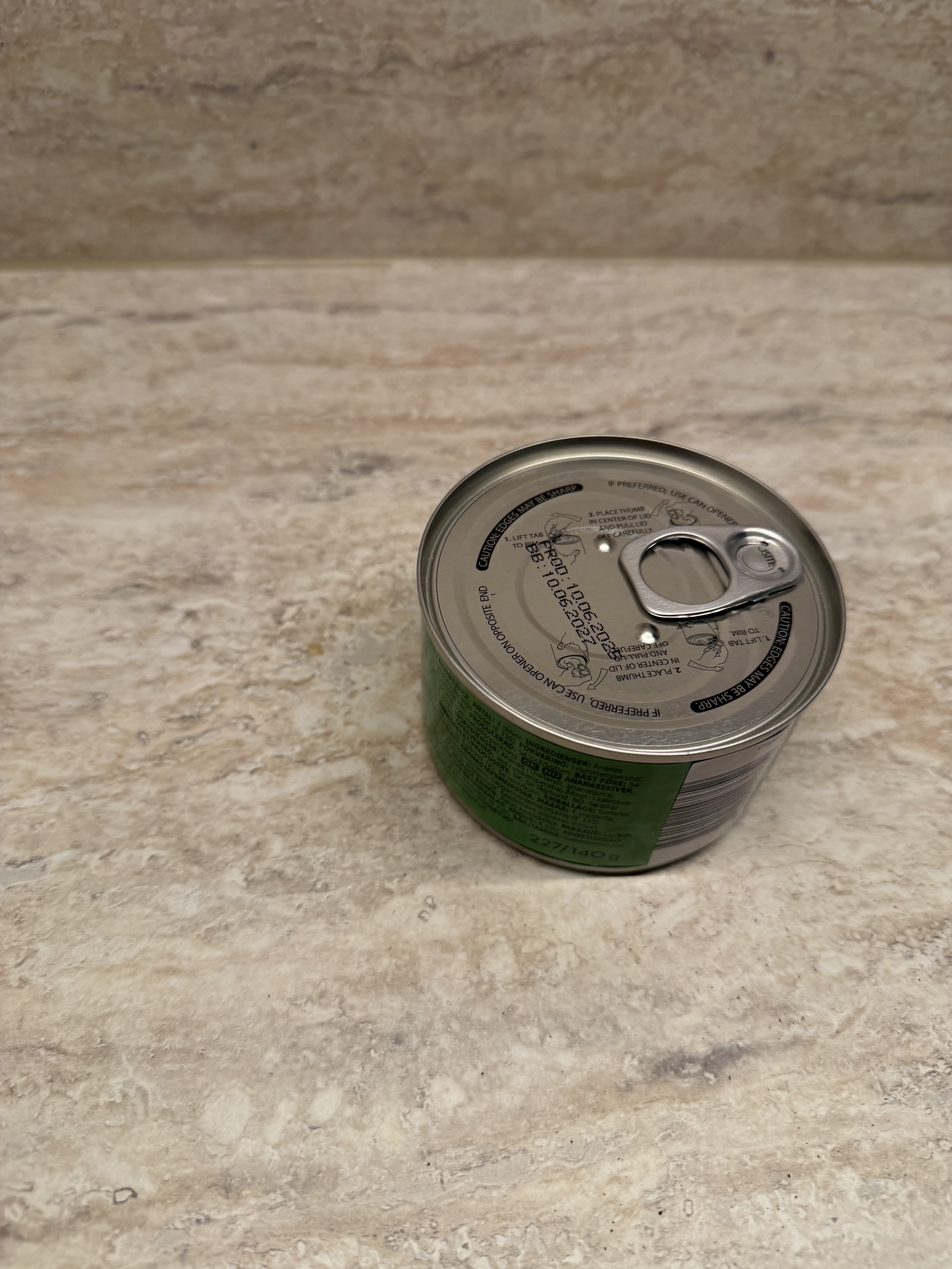Konservburk: (392, 427, 851, 897)
